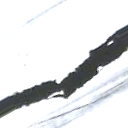crackTip: (1, 25, 128, 119)
